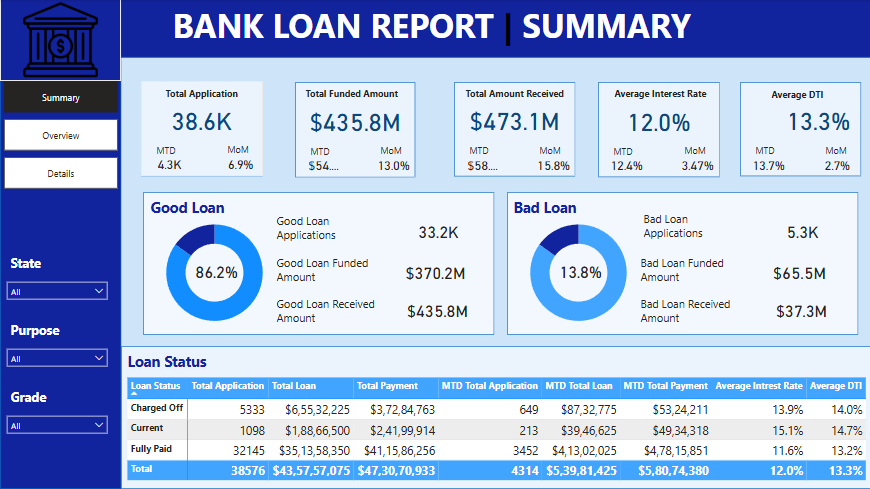

The page's visual inventory and layout, read from the dashboard file:
{"tool":"powerbi","page":{"name":"Summary","canvas":[1280,720],"ordinal":0},"visuals":[{"type":"shape","box":[0,0,1280,86],"z":0},{"type":"shape","box":[206.8,120,179.5,139.9],"z":0,"group":"g2"},{"type":"shape","box":[1088,121.4,178.1,138.5],"z":0,"group":"g4"},{"type":"shape","box":[878.3,121.5,179.5,139.9],"z":0,"group":"g1"},{"type":"shape","box":[433.4,122.1,176.8,140.3],"z":0,"group":"g3"},{"type":"shape","box":[666.8,122.3,178.5,138.8],"z":0,"group":"g7"},{"type":"shape","box":[745.9,283.8,516.2,230],"z":0,"group":"g6"},{"type":"shape","box":[210.1,283.9,516.2,230],"z":0,"group":"g5"},{"type":"shape","box":[178.1,510.2,1101.9,209.8],"z":500,"group":"g8"},{"type":"shape","box":[0,0,178.1,720],"z":1000},{"type":"card","fields":{"Values":["measuretable.MTD total application"]},"box":[218.9,229.2,60,23.8],"z":1000,"group":"g2"},{"type":"card","fields":{"Values":["measuretable.MTD average dti"]},"box":[1100,229.5,60,23.6],"z":1000,"group":"g4"},{"type":"card","fields":{"Values":["measuretable.MTD total payment"]},"box":[678.8,230.6,60.1,23.6],"z":1000,"group":"g7"},{"type":"card","fields":{"Values":["measuretable.MTD intrest rate"]},"box":[890.4,230.7,60,23.8],"z":1000,"group":"g1"},{"type":"card","fields":{"Values":["measuretable.MTD total loan"]},"box":[445.3,231.6,60,23.9],"z":1000,"group":"g3"},{"type":"textbox","box":[750.1,286.8,137.4,46.8],"z":1000,"group":"g6"},{"type":"donutChart","fields":{"Category":["bank_data financial_loan.good vs bad loan"],"Y":["measuretable.total loan"]},"box":[206.8,309.4,215.9,187.2],"z":1000,"group":"g5"},{"type":"pivotTable","fields":{"Rows":["bank_data financial_loan.loan_status"],"Values":["measuretable.total application","measuretable.total loan","measuretable.total payment","measuretable.MTD total application","measuretable.MTD total loan","measuretable.MTD total payment","measuretable.average intrest rate","measuretable.average dti"]},"box":[182.5,550.7,1095.8,164.5],"z":1000,"group":"g8"},{"type":"textbox","box":[248.4,0,783.2,79.3],"z":2000},{"type":"card","fields":{"Values":["measuretable.MoM total application"]},"box":[323.3,229.2,60,23.8],"z":2000,"group":"g2"},{"type":"card","fields":{"Values":["measuretable.MoM average DTI"]},"box":[1203.7,229.5,53.4,23.6],"z":2000,"group":"g4"},{"type":"card","fields":{"Values":["measuretable.MoM total payment"]},"box":[782.7,230.6,60.1,23.6],"z":2000,"group":"g7"},{"type":"card","fields":{"Values":["measuretable.MoM avrage intrest rate"]},"box":[994.8,230.7,60,23.8],"z":2000,"group":"g1"},{"type":"card","fields":{"Values":["measuretable.MoM total loan"]},"box":[548.2,231.6,60,23.9],"z":2000,"group":"g3"},{"type":"textbox","box":[215.9,286.8,137.4,46.8],"z":2000,"group":"g5"},{"type":"donutChart","fields":{"Category":["bank_data financial_loan.good vs bad loan"],"Y":["measuretable.total loan"]},"box":[742.6,309.3,215.9,187.2],"z":2000,"group":"g6"},{"type":"group","id":"g1","title":"interest","box":[878.3,121.5,180.7,139.9],"z":3000},{"type":"textbox","box":[328.6,207,50,28.3],"z":3000,"group":"g2"},{"type":"textbox","box":[1208.9,207.5,50,28],"z":3000,"group":"g4"},{"type":"textbox","box":[1000.1,208.5,50,28.3],"z":3000,"group":"g1"},{"type":"textbox","box":[788,208.6,50,28.1],"z":3000,"group":"g7"},{"type":"textbox","box":[553.4,209.3,50,28.4],"z":3000,"group":"g3"},{"type":"card","fields":{"Values":["measuretable.Bad loan application"]},"box":[1098.7,324.4,163.2,34.7],"z":3000,"group":"g6"},{"type":"card","fields":{"Values":["measuretable.Good loan application"]},"box":[562.9,324.5,163.2,34.7],"z":3000,"group":"g5"},{"type":"group","id":"g2","title":"Application","box":[206.8,120,179.5,139.9],"z":4000},{"type":"textbox","box":[224,207.7,50,28.3],"z":4000,"group":"g2"},{"type":"textbox","box":[1105.1,208.2,50,28],"z":4000,"group":"g4"},{"type":"textbox","box":[895.5,209.2,50,28.3],"z":4000,"group":"g1"},{"type":"textbox","box":[683.9,209.3,50,28.1],"z":4000,"group":"g7"},{"type":"textbox","box":[450.4,210,50,28.4],"z":4000,"group":"g3"},{"type":"card","fields":{"Values":["measuretable.bad loan issued %"]},"box":[757.4,324.4,192.9,150.9],"z":4000,"group":"g6"},{"type":"card","fields":{"Values":["measuretable.good loan issued %"]},"box":[221.6,324.5,192.9,150.9],"z":4000,"group":"g5"},{"type":"group","id":"g3","title":"Funded amount","box":[433.4,122.1,176.8,140.3],"z":5000},{"type":"card","fields":{"Values":["measuretable.total application"]},"box":[218.9,127,155.4,116.2],"z":5000,"group":"g2"},{"type":"card","fields":{"Values":["measuretable.average intrest rate"]},"box":[890.4,128.5,155.4,116.2],"z":5000,"group":"g1"},{"type":"card","fields":{"Values":["measuretable.average dti"]},"box":[1125.6,129,154.2,115],"z":5000,"group":"g4"},{"type":"card","fields":{"Values":["measuretable.total loan"]},"box":[445.3,129.1,153.1,116.5],"z":5000,"group":"g3"},{"type":"card","fields":{"Values":["measuretable.total payment"]},"box":[678.8,129.2,154.5,115.2],"z":5000,"group":"g7"},{"type":"card","fields":{"Values":["measuretable.bad loan funded"]},"box":[1093.7,384.8,163.2,34.7],"z":5000,"group":"g6"},{"type":"card","fields":{"Values":["measuretable.Good loan funded"]},"box":[557.9,384.9,163.2,34.7],"z":5000,"group":"g5"},{"type":"group","id":"g4","title":"DTI","box":[1088,121.4,191.8,138.5],"z":6000},{"type":"textbox","box":[897.5,123.8,161.5,31.7],"z":6000,"group":"g1"},{"type":"textbox","box":[237.3,124.6,125.3,33.2],"z":6000,"group":"g2"},{"type":"textbox","box":[443.3,124.9,163,33.2],"z":6000,"group":"g3"},{"type":"textbox","box":[679.2,125.3,163,30.2],"z":6000,"group":"g7"},{"type":"textbox","box":[1128.8,125.3,140.4,33.2],"z":6000,"group":"g4"},{"type":"card","fields":{"Values":["measuretable.Bad loan amount received"]},"box":[1097,440.6,163.2,34.7],"z":6000,"group":"g6"},{"type":"card","fields":{"Values":["measuretable.Good loan amount received"]},"box":[561.2,440.7,163.2,34.7],"z":6000,"group":"g5"},{"type":"group","id":"g5","title":"good loan","box":[206.8,283.9,519.6,230],"z":7000},{"type":"textbox","box":[937.1,431.6,176.4,54.3],"z":7000,"group":"g6"},{"type":"textbox","box":[401.3,431.7,176.4,54.3],"z":7000,"group":"g5"},{"type":"group","id":"g6","title":"bad loan","box":[742.6,283.8,519.2,229.4],"z":8000},{"type":"textbox","box":[940.9,306.8,164.5,58.9],"z":8000,"group":"g6"},{"type":"textbox","box":[400.3,311.1,175.1,61.9],"z":8000,"group":"g5"},{"type":"group","id":"g7","title":"amount received","box":[666.8,122.3,178.5,138.8],"z":9000},{"type":"textbox","box":[937.1,372.7,176.4,58.9],"z":9000,"group":"g6"},{"type":"textbox","box":[401.3,372.8,176.4,58.9],"z":9000,"group":"g5"},{"type":"group","id":"g8","title":"matrix","box":[178.1,510.2,1101.9,209.8],"z":10000},{"type":"textbox","box":[182.6,513.2,170.6,37.7],"z":11000},{"type":"slicer","fields":{"Values":["bank_data financial_loan.address_state"]},"box":[0,405.6,167.5,55.8],"z":12000},{"type":"slicer","fields":{"Values":["bank_data financial_loan.purpose"]},"box":[0,504.7,167.5,57.3],"z":13000},{"type":"slicer","fields":{"Values":["bank_data financial_loan.grade"]},"box":[0,603.1,167.5,57.3],"z":14000},{"type":"textbox","box":[10.3,371,130.8,35.3],"z":15000},{"type":"textbox","box":[10.3,469.4,130.8,35.3],"z":16000},{"type":"textbox","box":[10.3,567.9,130.8,45.6],"z":17000},{"type":"pageNavigator","box":[5.9,120.5,167.5,158.7],"z":18000},{"type":"image","box":[0,0,177.8,120.5],"z":19000}]}

Visuals, with their boxes in screenshot pixels (x1, y1, x2, y2), scaled from the page's 1280x720 canvas onto the 870x489 screenshot:
shape: region(0, 0, 869, 58)
shape: region(141, 82, 263, 177)
shape: region(740, 82, 861, 177)
shape: region(597, 83, 719, 178)
shape: region(295, 83, 415, 178)
shape: region(453, 83, 575, 177)
shape: region(507, 193, 858, 349)
shape: region(143, 193, 494, 349)
shape: region(121, 347, 869, 488)
shape: region(0, 0, 121, 488)
card - measuretable.MTD total application: region(149, 156, 190, 172)
card - measuretable.MTD average dti: region(748, 156, 788, 172)
card - measuretable.MTD total payment: region(461, 157, 502, 173)
card - measuretable.MTD intrest rate: region(605, 157, 646, 173)
card - measuretable.MTD total loan: region(303, 157, 343, 174)
textbox: region(510, 195, 603, 227)
donutChart - bank_data financial_loan.good vs bad loan x measuretable.total loan: region(141, 210, 287, 337)
pivotTable - bank_data financial_loan.loan_status x measuretable.total application: region(124, 374, 869, 486)
textbox: region(169, 0, 701, 54)
card - measuretable.MoM total application: region(220, 156, 261, 172)
card - measuretable.MoM average DTI: region(818, 156, 854, 172)
card - measuretable.MoM total payment: region(532, 157, 573, 173)
card - measuretable.MoM avrage intrest rate: region(676, 157, 717, 173)
card - measuretable.MoM total loan: region(373, 157, 413, 174)
textbox: region(147, 195, 240, 227)
donutChart - bank_data financial_loan.good vs bad loan x measuretable.total loan: region(505, 210, 651, 337)
"interest" group: region(597, 83, 720, 178)
textbox: region(223, 141, 257, 160)
textbox: region(822, 141, 856, 160)
textbox: region(680, 142, 714, 161)
textbox: region(536, 142, 570, 161)
textbox: region(376, 142, 410, 161)
card - measuretable.Bad loan application: region(747, 220, 858, 244)
card - measuretable.Good loan application: region(383, 220, 494, 244)
"Application" group: region(141, 82, 263, 177)
textbox: region(152, 141, 186, 160)
textbox: region(751, 141, 785, 160)
textbox: region(609, 142, 643, 161)
textbox: region(465, 142, 499, 161)
textbox: region(306, 143, 340, 162)
card - measuretable.bad loan issued %: region(515, 220, 646, 323)
card - measuretable.good loan issued %: region(151, 220, 282, 323)
"Funded amount" group: region(295, 83, 415, 178)
card - measuretable.total application: region(149, 86, 254, 165)
card - measuretable.average intrest rate: region(605, 87, 711, 166)
card - measuretable.average dti: region(765, 88, 869, 166)
card - measuretable.total loan: region(303, 88, 407, 167)
card - measuretable.total payment: region(461, 88, 566, 166)
card - measuretable.bad loan funded: region(743, 261, 854, 285)
card - measuretable.Good loan funded: region(379, 261, 490, 285)
"DTI" group: region(740, 82, 869, 177)
textbox: region(610, 84, 720, 106)
textbox: region(161, 85, 246, 107)
textbox: region(301, 85, 412, 107)
textbox: region(462, 85, 572, 106)
textbox: region(767, 85, 863, 108)
card - measuretable.Bad loan amount received: region(746, 299, 857, 323)
card - measuretable.Good loan amount received: region(381, 299, 492, 323)
"good loan" group: region(141, 193, 494, 349)
textbox: region(637, 293, 757, 330)
textbox: region(273, 293, 393, 330)
"bad loan" group: region(505, 193, 858, 349)
textbox: region(640, 208, 751, 248)
textbox: region(272, 211, 391, 253)
"amount received" group: region(453, 83, 575, 177)
textbox: region(637, 253, 757, 293)
textbox: region(273, 253, 393, 293)
"matrix" group: region(121, 347, 869, 488)
textbox: region(124, 349, 240, 374)
slicer - bank_data financial_loan.address_state: region(0, 275, 114, 313)
slicer - bank_data financial_loan.purpose: region(0, 343, 114, 382)
slicer - bank_data financial_loan.grade: region(0, 410, 114, 449)
textbox: region(7, 252, 96, 276)
textbox: region(7, 319, 96, 343)
textbox: region(7, 386, 96, 417)
pageNavigator: region(4, 82, 118, 190)
image: region(0, 0, 121, 82)
